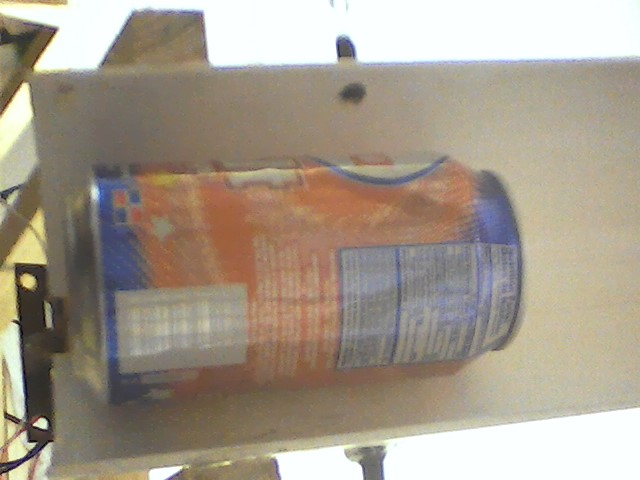lata: (64, 153, 539, 405)
